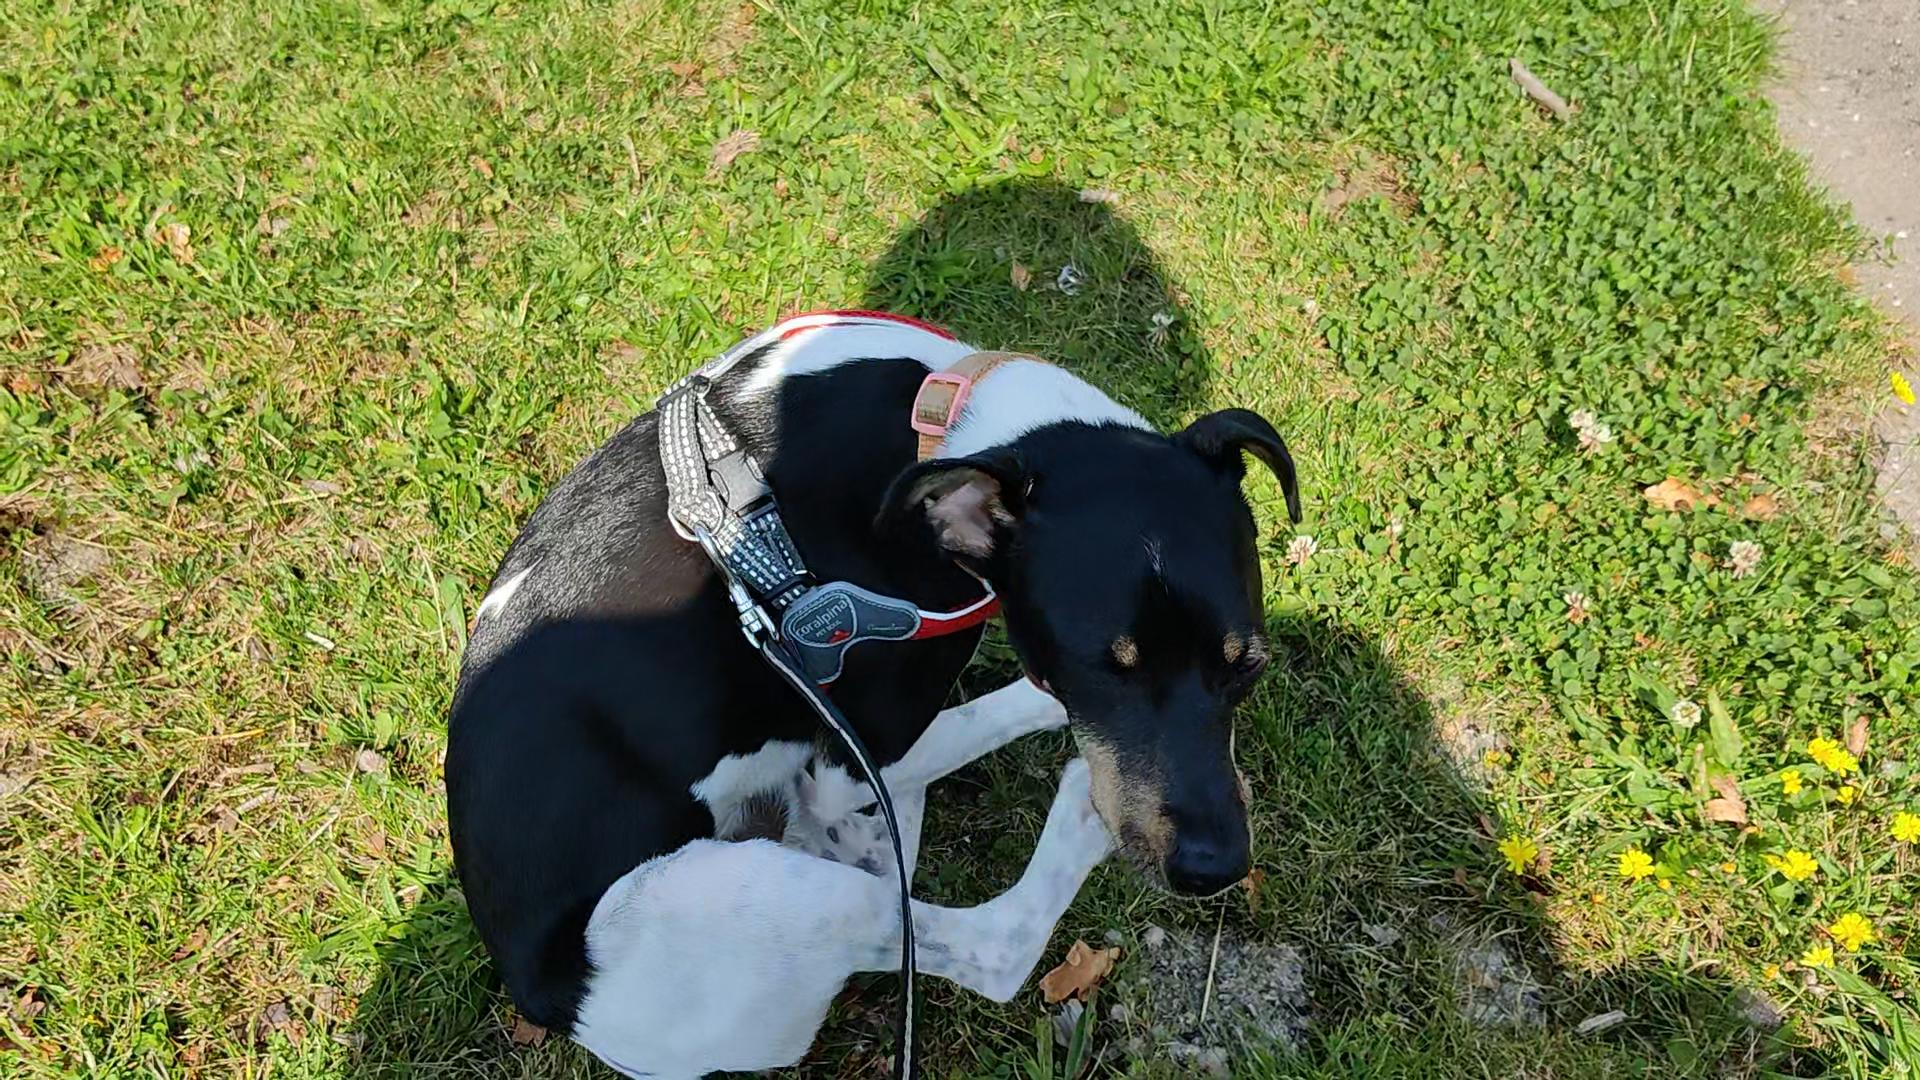Dog: (433, 305, 1316, 1079)
